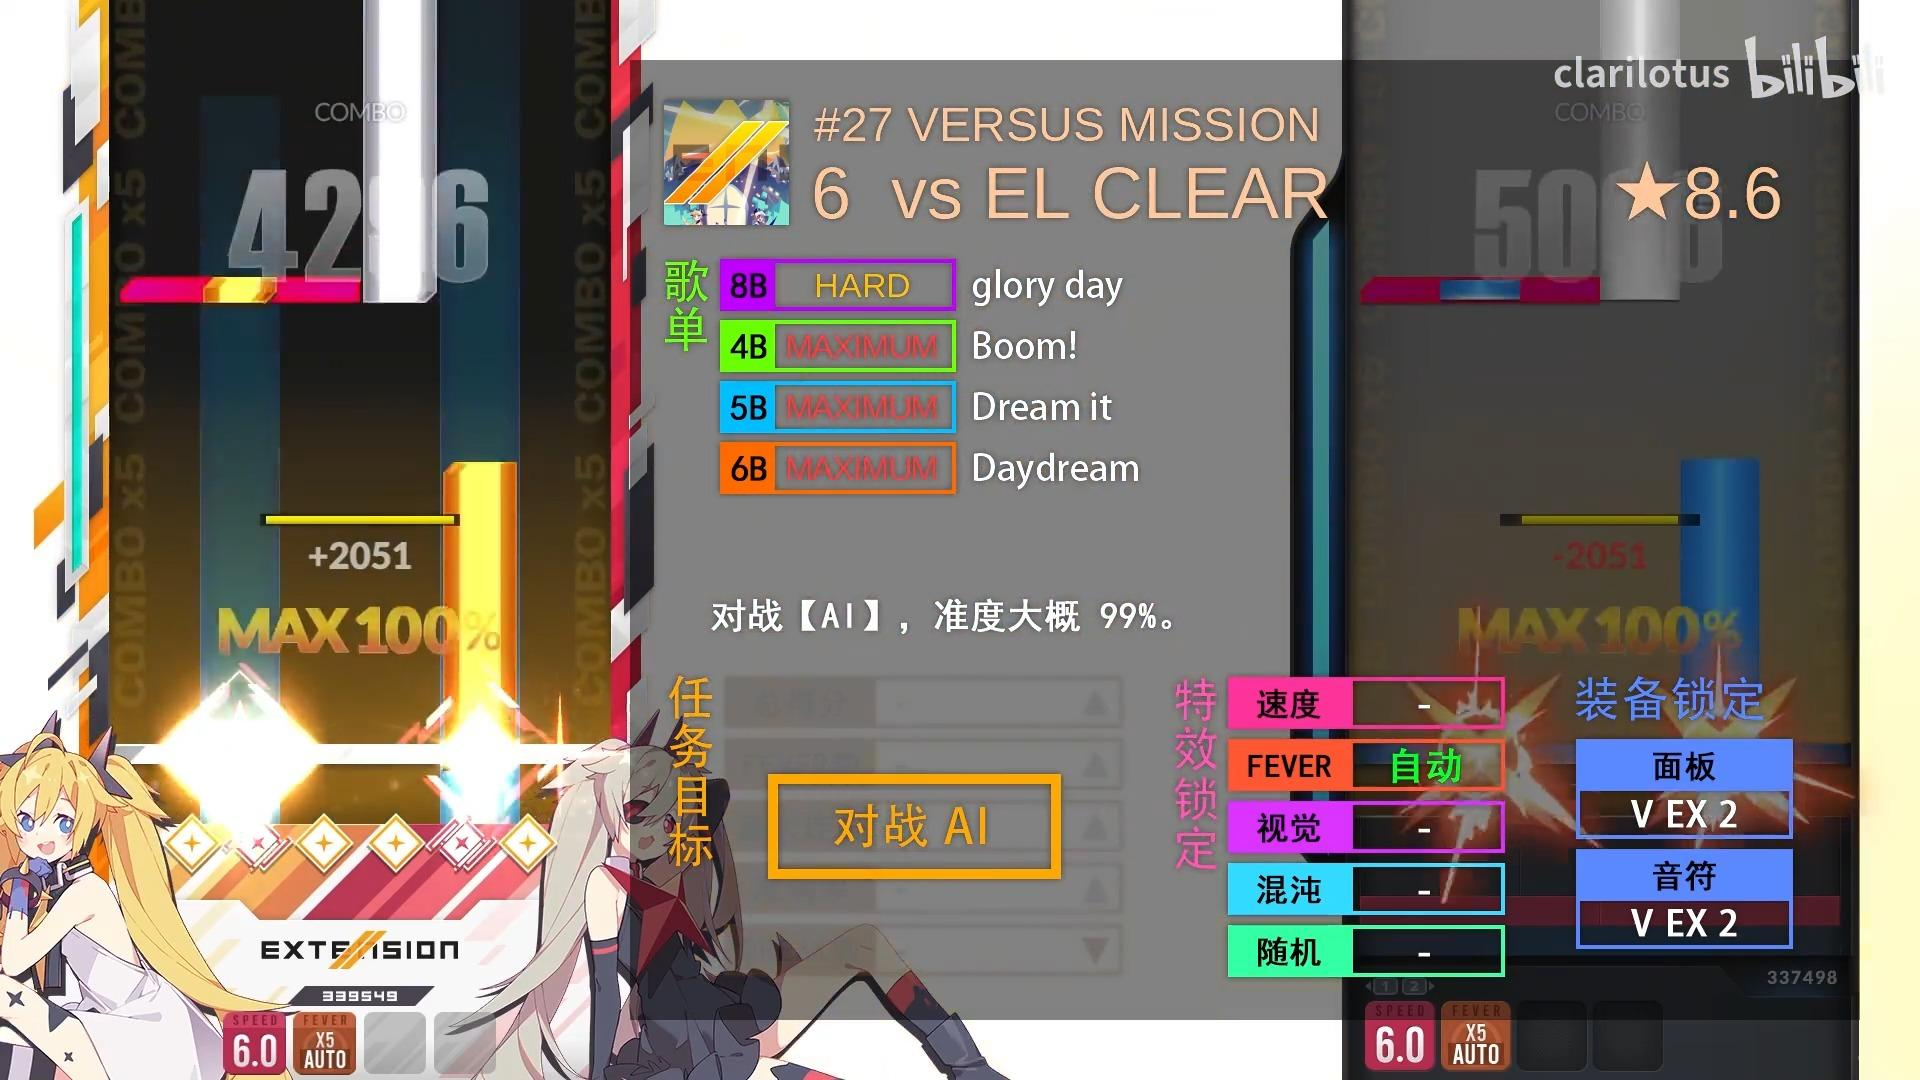hold-end: (443, 462, 518, 485)
hold-start: (363, 274, 438, 303)
note: (203, 276, 277, 303)
xnote: (120, 277, 361, 303)
